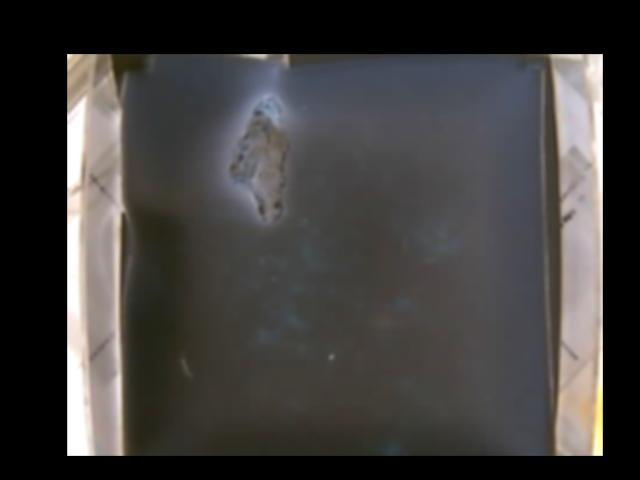Brisk: (227, 96, 285, 224)
